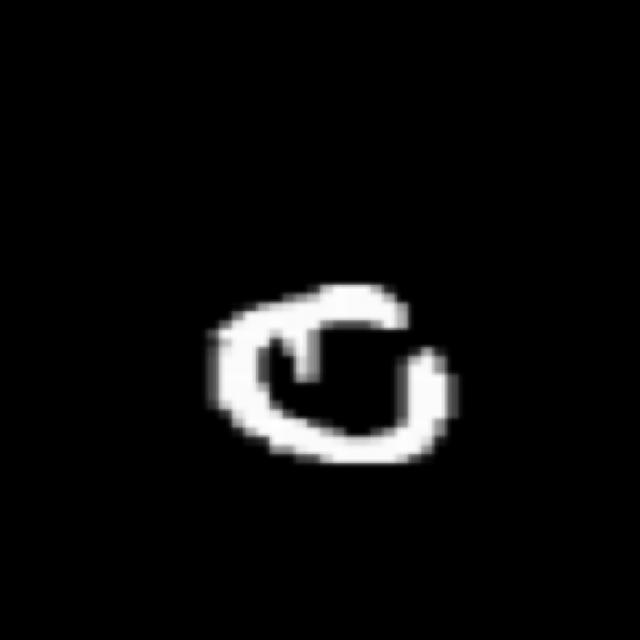zero -0-: (186, 259, 477, 492)
